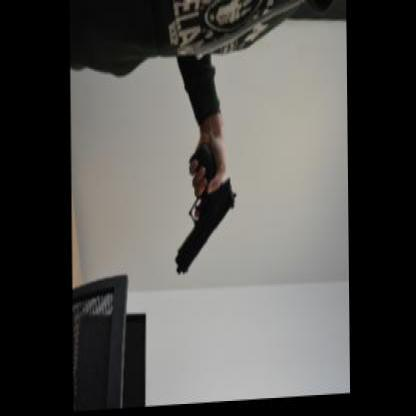pistol: (173, 140, 237, 274)
